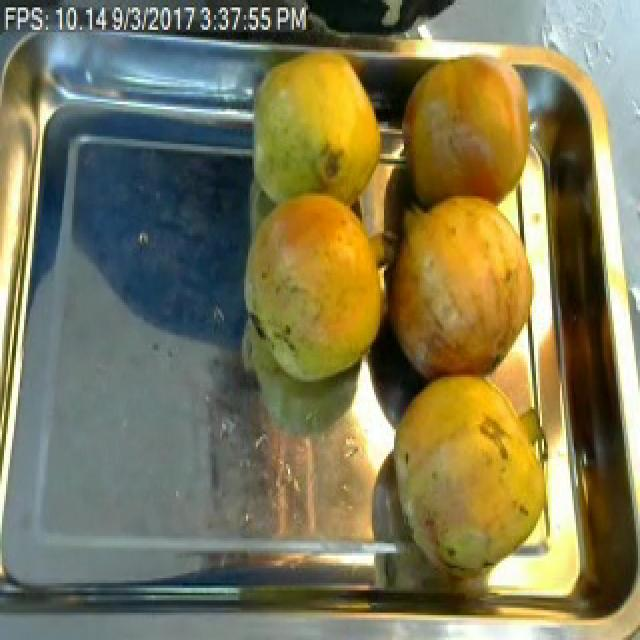fruit: (384, 362, 562, 593), (232, 178, 402, 400), (378, 183, 542, 390), (394, 42, 546, 214), (244, 42, 392, 214)
